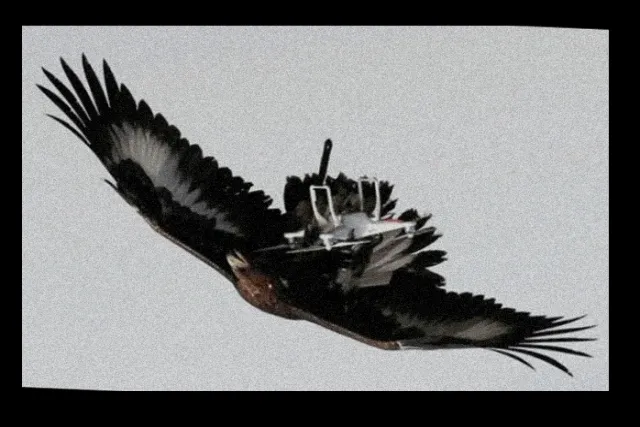Bird: (37, 38, 597, 381)
UAV: (264, 163, 418, 265)
